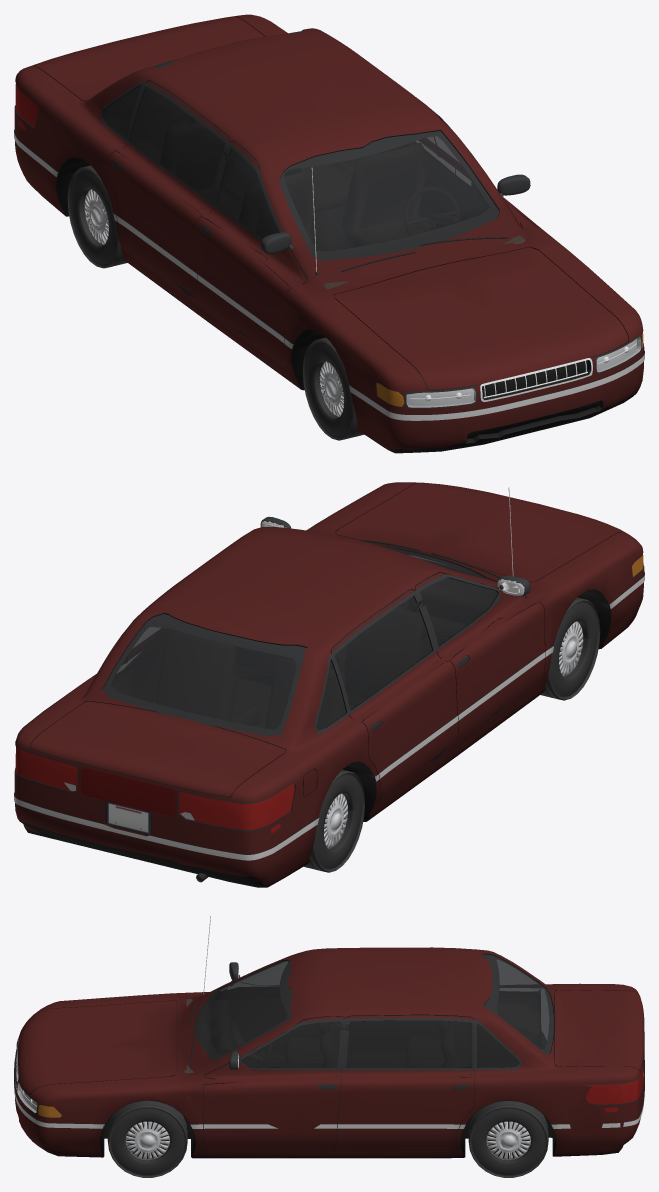
Rendered from car_sedan_b.glb.
The picture shows the model from 3 angles, top to bottom: view 1: azimuth 30°, elevation 25°; view 2: azimuth 150°, elevation 25°; view 3: azimuth 270°, elevation 25°; orthographic projection. The views are drawn at different scales.
Parts seen in each view (by area): view 1: body, wheel_FR, wheel_RR; view 2: body, wheel_RR, wheel_FR; view 3: body, wheel_FL, wheel_RL.
Boxes of the visible parts, <box> form: body: <box>14,14,644,453</box>; wheel_FR: <box>303,337,363,440</box>; wheel_RR: <box>67,165,127,268</box>; body: <box>14,482,644,887</box>; wheel_RR: <box>303,769,364,872</box>; wheel_FR: <box>540,597,600,700</box>; body: <box>14,916,644,1158</box>; wheel_FL: <box>107,1100,187,1177</box>; wheel_RL: <box>468,1101,548,1177</box>.
Size of the model in its own units: 1.95 by 1.63 by 5.21.
12 materials, 1 textured.
